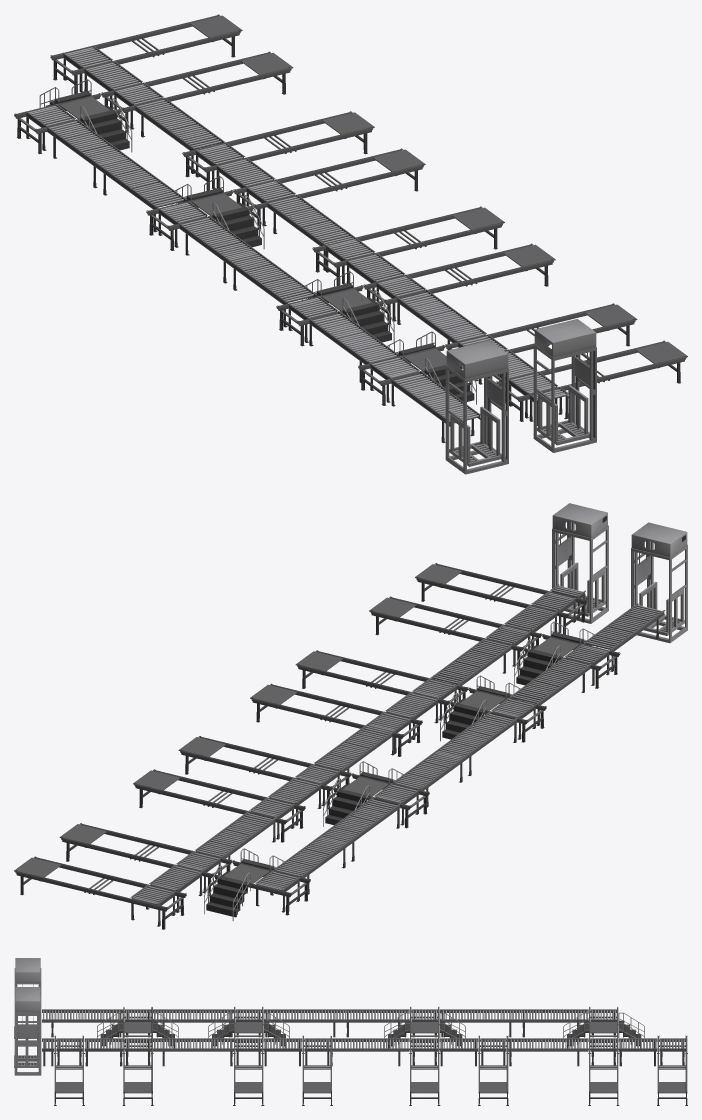
Rendered from SND_duiduoji_gtxsx2.glb.
The picture shows the model from 3 angles, top to bottom: view 1: azimuth 30°, elevation 25°; view 2: azimuth 150°, elevation 25°; view 3: azimuth 270°, elevation 25°; orthographic projection. The views are drawn at different scales.
Bounding box in the file's own units: 8296 × 3373 × 27682.
Materials: 2 (2 with a texture image).
